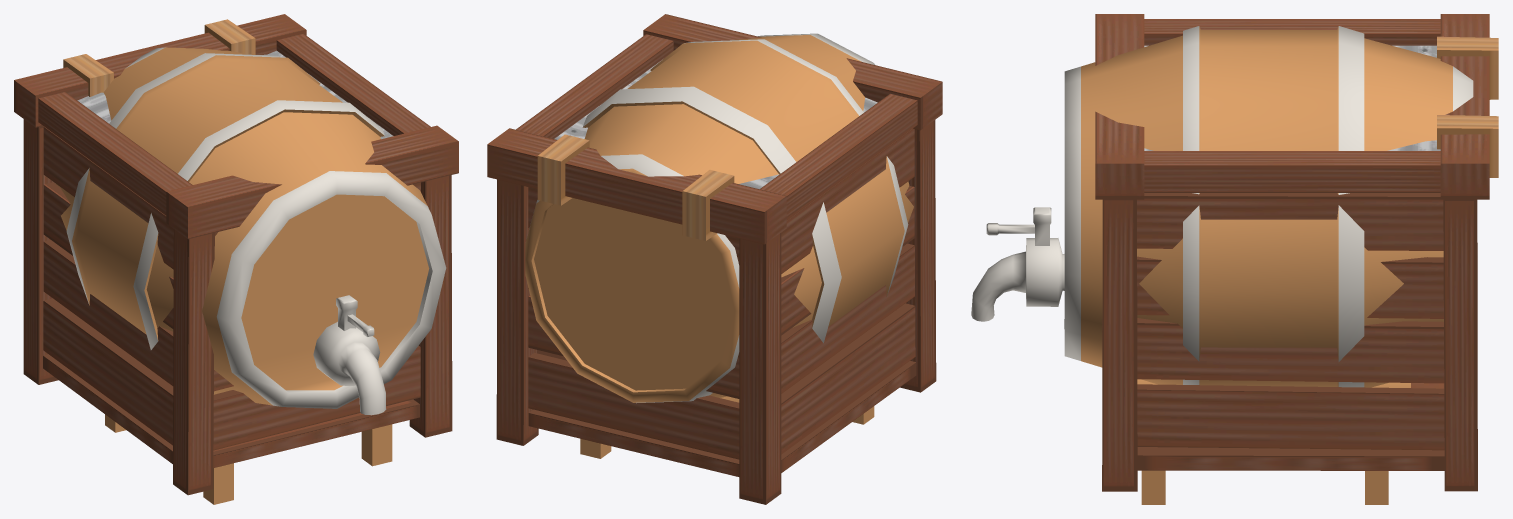
Rendered from CompostBin_Hand.fbx.
The picture shows the model from 3 angles, left to right: view 1: azimuth 30°, elevation 25°; view 2: azimuth 150°, elevation 25°; view 3: azimuth 270°, elevation 25°; orthographic projection. The views are drawn at different scales.
Visible parts, largest first — view 1: Keg (1), Bin (1), Lid (1) (×2); view 2: Keg (1), Bin (1), Lid (1) (×2); view 3: Keg (1), Bin (1), Lid (1) (×2).
Boxes of the visible parts, x1,y1,x2,y2 form: Keg (1): [56, 47, 446, 504]; Bin (1): [23, 119, 452, 495]; Lid (1) (×2): [14, 14, 458, 239]; Keg (1): [525, 33, 913, 458]; Bin (1): [496, 120, 936, 504]; Lid (1) (×2): [487, 14, 942, 244]; Keg (1): [971, 26, 1473, 504]; Bin (1): [1102, 193, 1477, 491]; Lid (1) (×2): [1095, 14, 1498, 199].
Bounding box in the file's own units: 0.591 × 0.7134 × 0.826.
